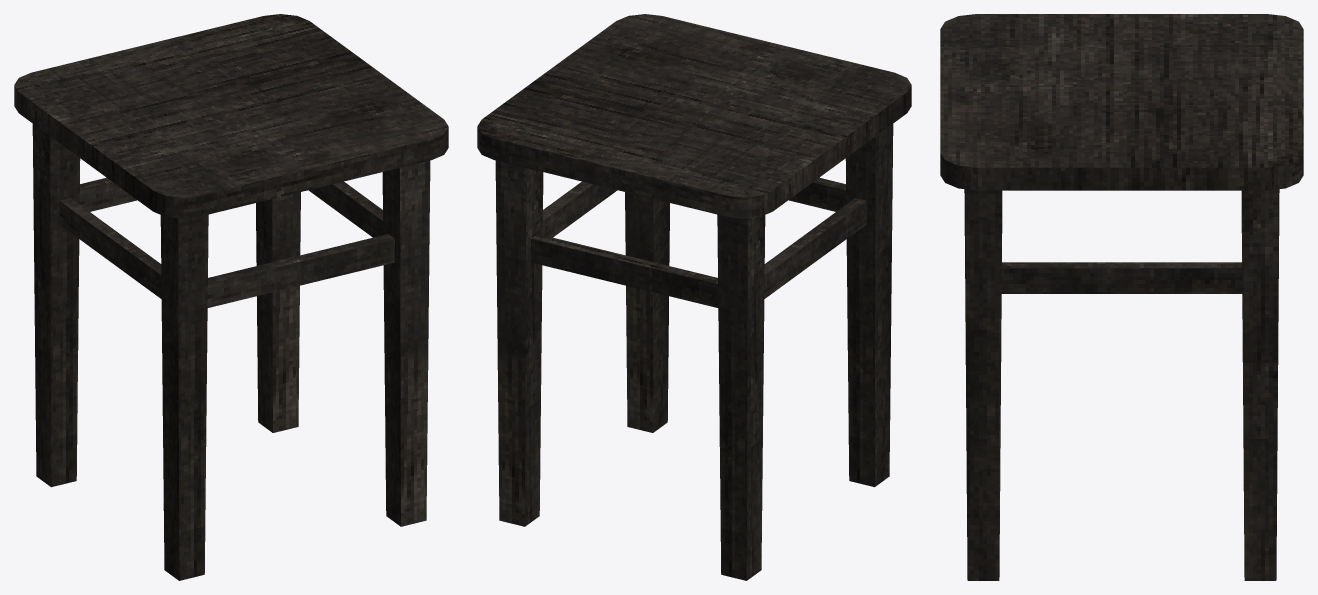
File: chair_mp_2.glb
3 views of the same model, side by side, from view 1: azimuth 30°, elevation 25°; view 2: azimuth 150°, elevation 25°; view 3: azimuth 270°, elevation 25° (orthographic). The views are drawn at different scales.
Parts seen in each view (by area): view 1: chair_mp_2; view 2: chair_mp_2; view 3: chair_mp_2.
Boxes of the visible parts, x1,y1,x2,y2 form: chair_mp_2: [14, 14, 448, 580]; chair_mp_2: [477, 14, 911, 580]; chair_mp_2: [940, 14, 1303, 580].
Size of the model in its own units: 0.4607 by 0.594 by 0.4607.
1 material, 1 textured.
